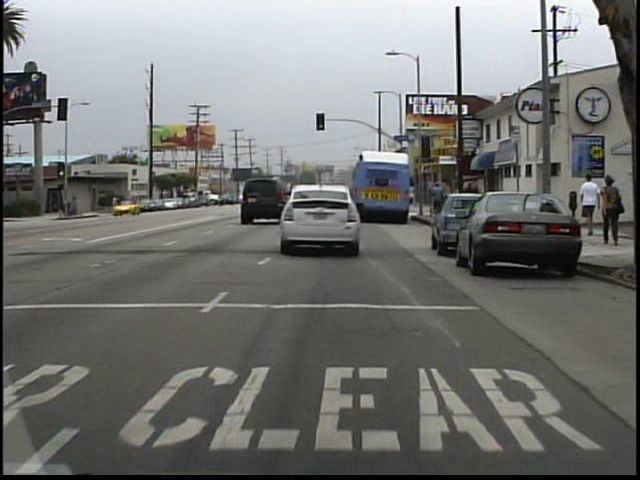person: (595, 172, 621, 248), (575, 172, 601, 240), (428, 180, 447, 222)
